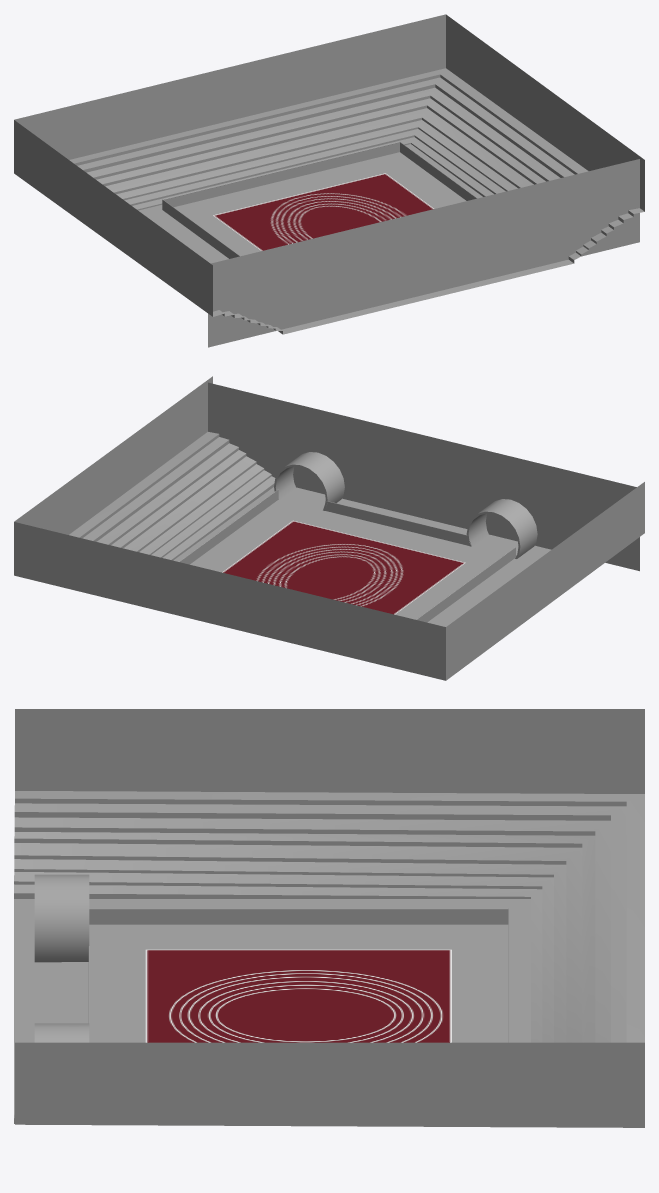
File: new ground.fbx
3 renders of one model, top to bottom at view 1: azimuth 30°, elevation 25°; view 2: azimuth 150°, elevation 25°; view 3: azimuth 270°, elevation 25°, orthographic. The views are drawn at different scales.
Parts seen in each view (by area): view 1: pPlane2, pPlane3, polySurface1, polySurface2; view 2: pPlane2, pPlane3, polySurface1, polySurface2, pCylinder6, pCylinder5; view 3: pPlane2, polySurface1, polySurface2, pCylinder6, pCylinder5, pCylinder2.
Part boxes in pixels (bbox=[...]): pPlane2: bbox=[14, 14, 644, 334]; pPlane3: bbox=[208, 159, 639, 347]; polySurface1: bbox=[174, 152, 466, 256]; polySurface2: bbox=[162, 142, 476, 258]; pPlane2: bbox=[14, 376, 644, 680]; pPlane3: bbox=[208, 382, 639, 571]; polySurface1: bbox=[190, 499, 504, 619]; polySurface2: bbox=[180, 490, 515, 622]; pCylinder6: bbox=[466, 499, 537, 558]; pCylinder5: bbox=[274, 452, 344, 510]; pPlane2: bbox=[14, 709, 644, 1127]; polySurface1: bbox=[89, 924, 508, 1042]; polySurface2: bbox=[89, 909, 508, 924]; pCylinder6: bbox=[34, 874, 89, 962]; pCylinder5: bbox=[34, 1023, 89, 1042]; pCylinder2: bbox=[89, 908, 509, 909].
Bounding box in the file's own units: 0.9156 × 0.1806 × 0.7319.
2 materials, 1 textured.
